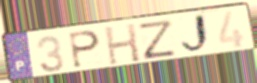3: (36, 34, 65, 73)
4: (217, 10, 247, 49)
H: (103, 22, 143, 67)
J: (180, 12, 213, 57)
P: (68, 29, 102, 70)
Z: (137, 18, 178, 61)
